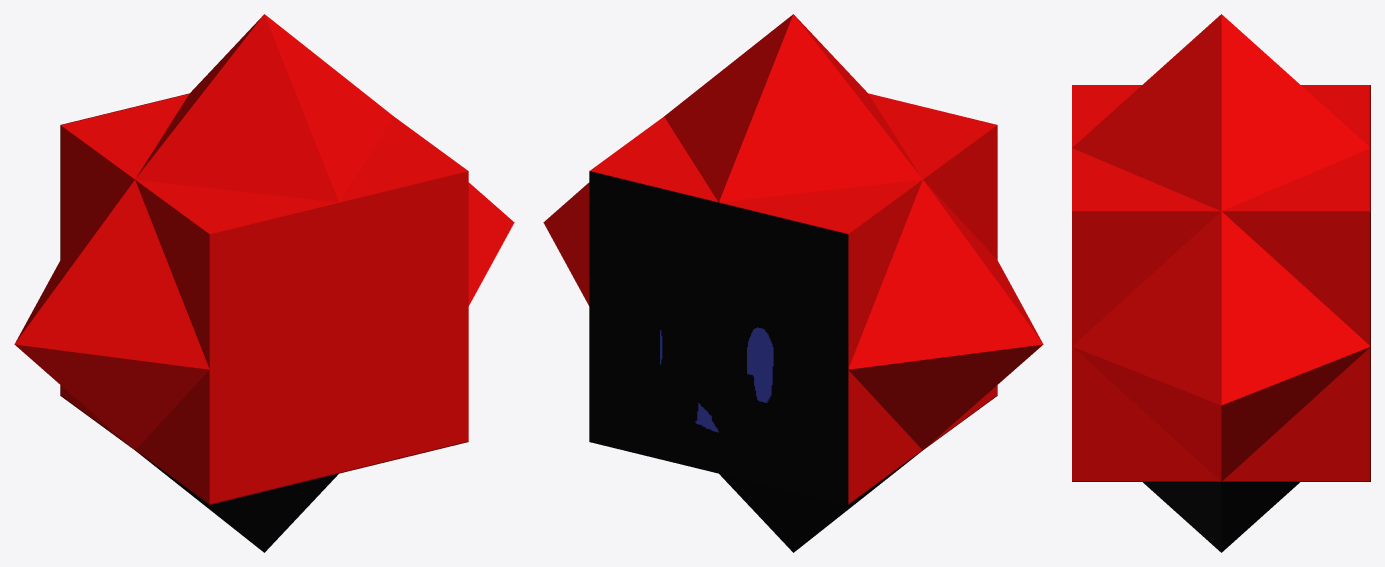
File: BOSS.obj
3 views of the same model, side by side, from view 1: azimuth 30°, elevation 25°; view 2: azimuth 150°, elevation 25°; view 3: azimuth 270°, elevation 25° (orthographic).
Visible parts, largest first — view 1: 立方体; view 2: 立方体; view 3: 立方体.
Part boxes in pixels (<box>): 立方体: <box>14,14,514,552</box>; 立方体: <box>543,14,1043,552</box>; 立方体: <box>1072,14,1370,552</box>.
Bounding box in the file's own units: 3.86 × 3.98 × 2.
1 material, 1 textured.
